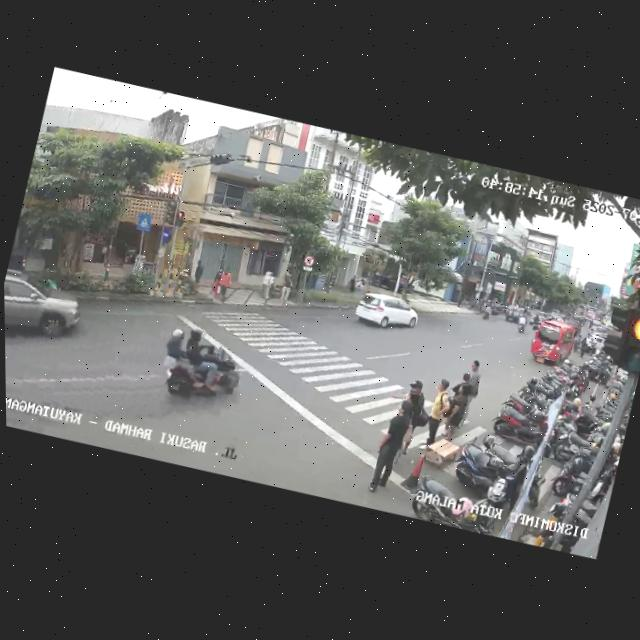car: (4, 267, 85, 358), (349, 288, 421, 340), (526, 315, 580, 370)
motorcycle: (153, 319, 250, 413), (514, 312, 530, 335), (480, 302, 494, 321)
person: (365, 399, 414, 498), (390, 376, 429, 459), (417, 377, 456, 451), (440, 379, 476, 445), (441, 369, 476, 432), (455, 358, 484, 428), (214, 264, 237, 305), (275, 268, 297, 303), (255, 268, 277, 302), (208, 266, 225, 298), (190, 259, 206, 285)
